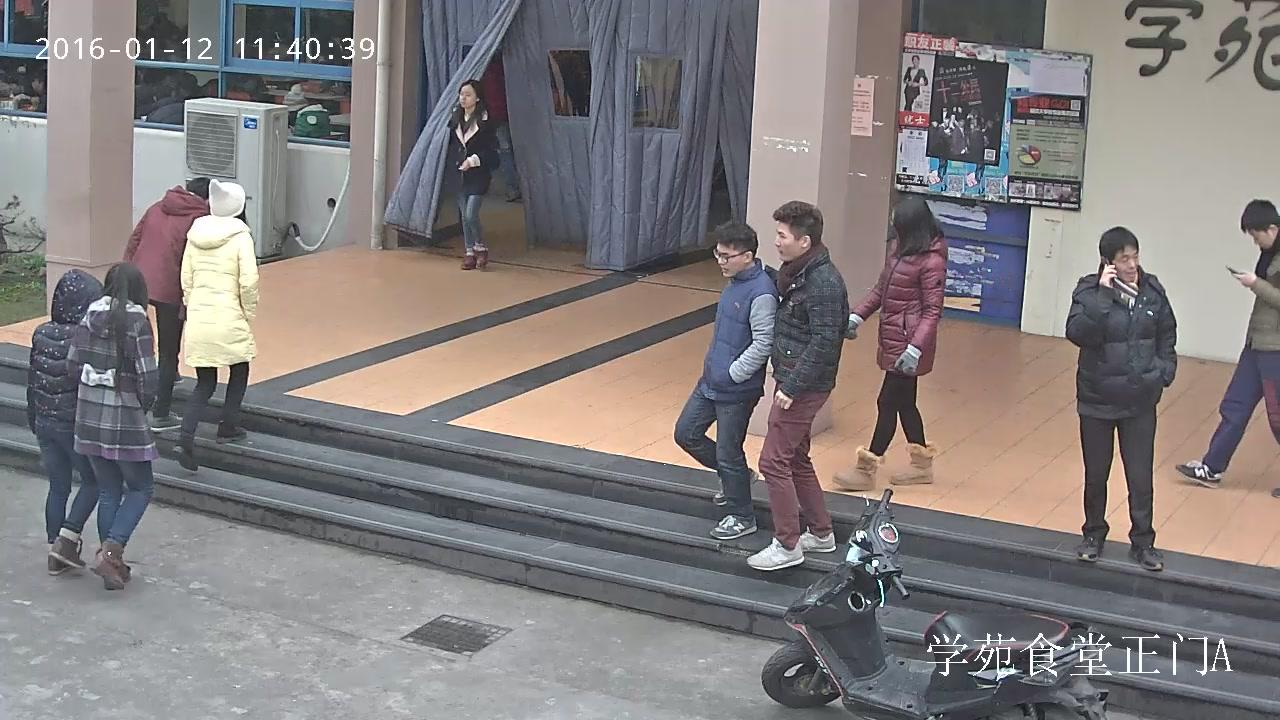person: (1064, 226, 1174, 570), (746, 199, 847, 571), (47, 263, 160, 588), (672, 222, 778, 540), (833, 196, 947, 491), (1173, 199, 1279, 496), (170, 178, 259, 471), (26, 267, 104, 575), (121, 177, 210, 433), (445, 80, 500, 271), (282, 82, 329, 139), (144, 84, 183, 122), (903, 54, 927, 111)
